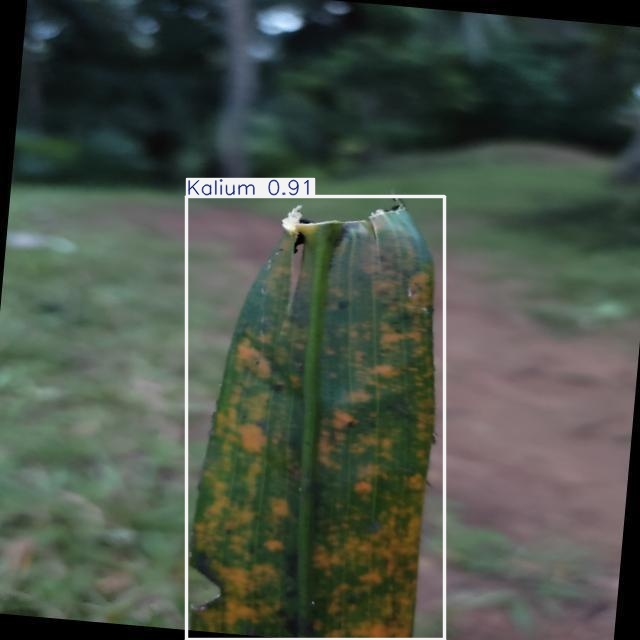Kalium: (186, 197, 445, 639)
